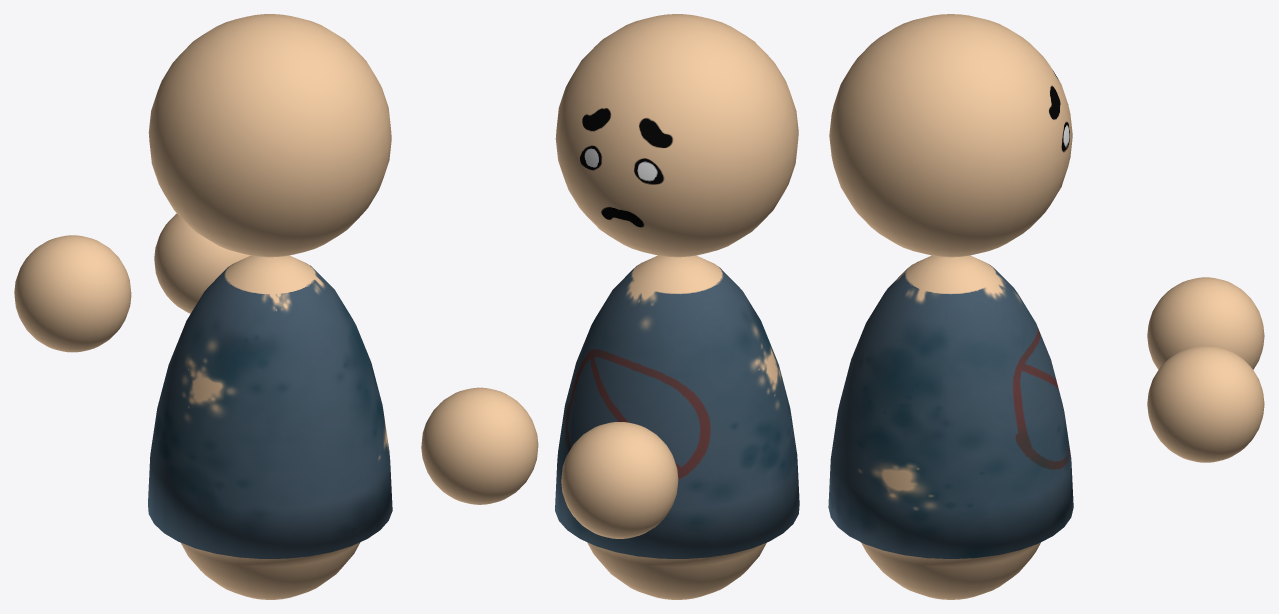
The model's file is Chara3.fbx.
3 renders of one model, left to right at view 1: azimuth 30°, elevation 25°; view 2: azimuth 150°, elevation 25°; view 3: azimuth 270°, elevation 25°, orthographic.
Parts seen in each view (by area): view 1: Sphere.002, Sphere.001, Sphere; view 2: Sphere.002, Sphere.001, Sphere; view 3: Sphere.002, Sphere.001, Sphere.
Boxes of the visible parts, bbox=[...] form: Sphere.002: bbox=[148, 255, 392, 599]; Sphere.001: bbox=[148, 14, 391, 257]; Sphere: bbox=[14, 213, 250, 352]; Sphere.002: bbox=[555, 255, 799, 599]; Sphere.001: bbox=[555, 14, 798, 257]; Sphere: bbox=[421, 387, 678, 538]; Sphere.002: bbox=[828, 255, 1073, 599]; Sphere.001: bbox=[829, 14, 1072, 257]; Sphere: bbox=[1147, 277, 1264, 462].
Bounding box in the file's own units: 155 × 347 × 242.
